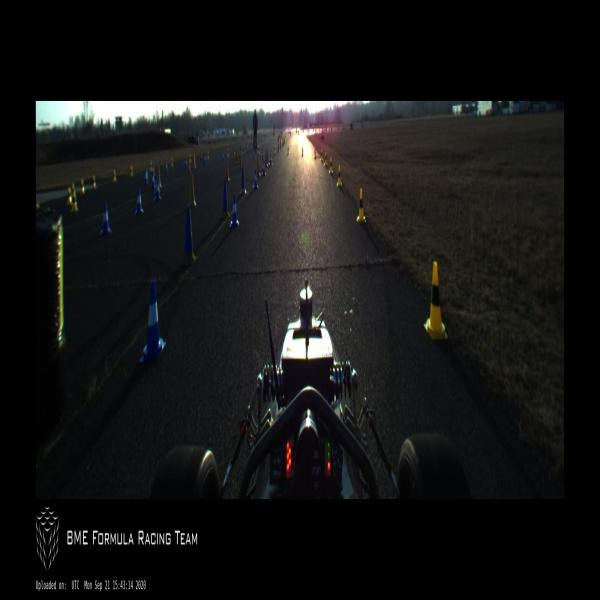blue_cone: (140, 279, 167, 361), (100, 202, 111, 236), (230, 193, 239, 228), (135, 189, 143, 215), (154, 180, 160, 201), (253, 168, 258, 190), (261, 159, 266, 176), (151, 174, 155, 189), (155, 176, 158, 193), (144, 172, 148, 184), (165, 162, 168, 173), (270, 154, 272, 166), (262, 149, 264, 160), (252, 150, 254, 160)
unknown_cone: (180, 205, 197, 267), (219, 180, 230, 220), (188, 174, 197, 209), (240, 165, 247, 196)
yellow_cone: (423, 261, 448, 342), (357, 189, 366, 222), (337, 164, 342, 188), (72, 190, 78, 210), (329, 157, 333, 175), (67, 187, 71, 205), (81, 179, 85, 195), (92, 174, 96, 189), (112, 169, 116, 183), (324, 151, 327, 166), (170, 157, 174, 168), (320, 149, 323, 160), (130, 166, 133, 177), (301, 146, 304, 157), (314, 147, 316, 159), (274, 144, 276, 154), (287, 146, 289, 155), (258, 146, 260, 154)
